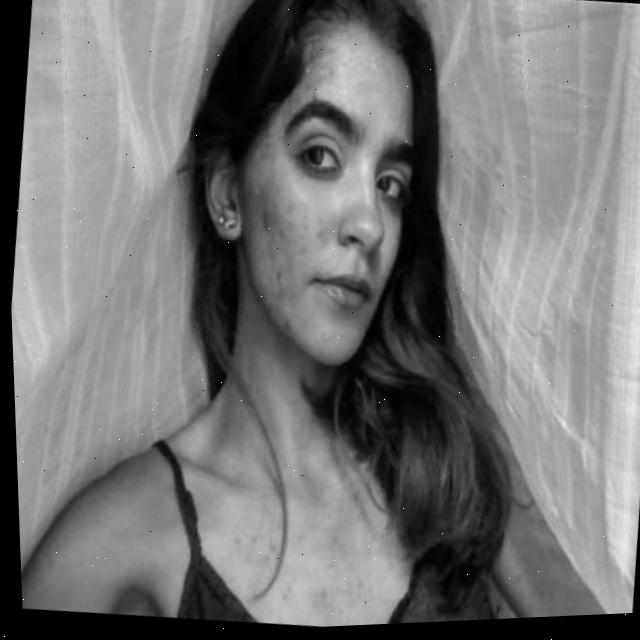Acne: (226, 165, 348, 328)
